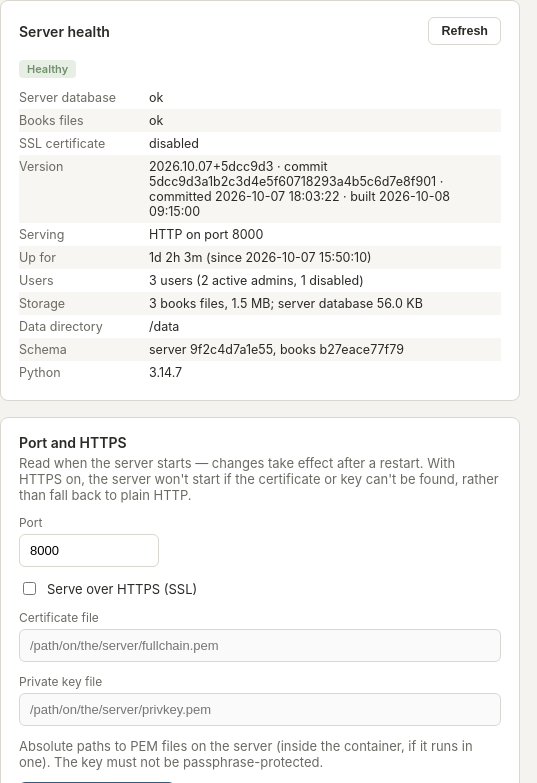
Test: says a restart is needed once the saved settings differ from what is running
Expected: the text "Restart the server to apply" is not shown
Replace the text in the field labelled "Port" with "8443" at (89, 550), box [19,534,159,567]
(page scrolled)
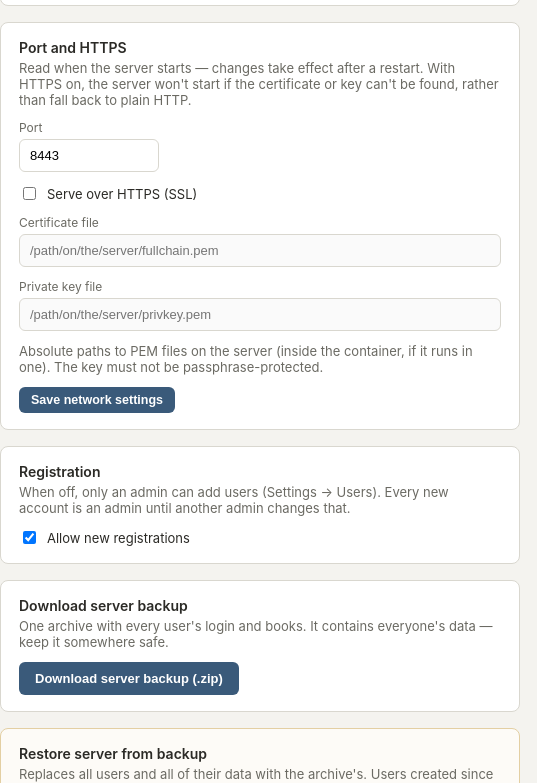
Click the button "Save network settings".
click(97, 400)  # box [19,387,175,413]
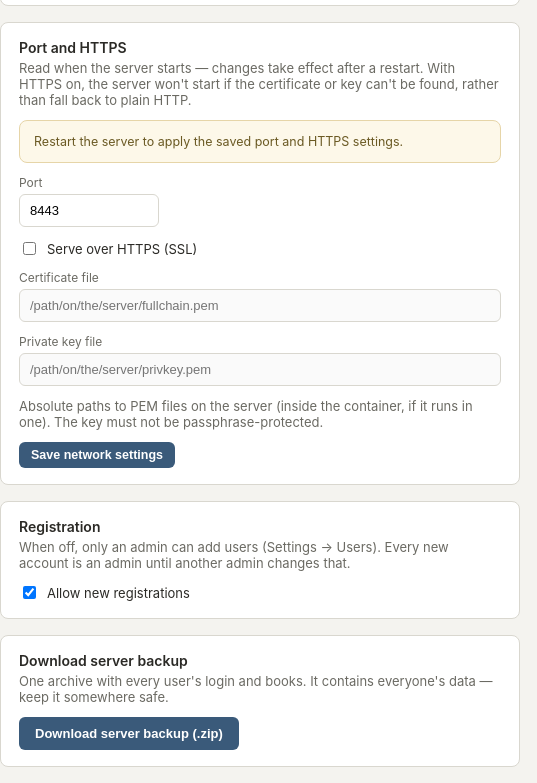
Result: the text "Restart the server to apply" is shown at [34,134,403,149]
